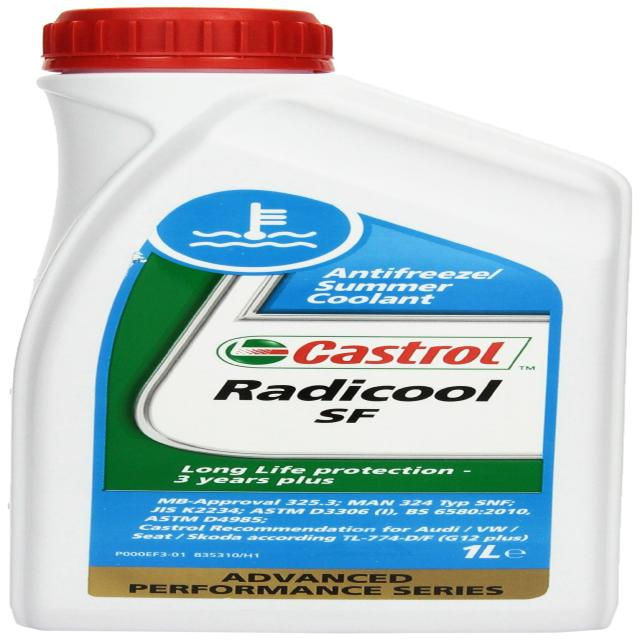coolant: (21, 2, 628, 635)
